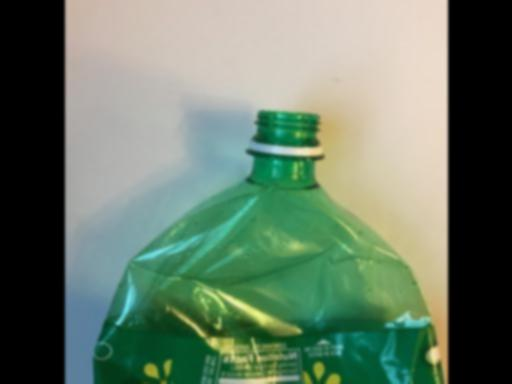PET: (90, 109, 447, 384)
plastic: (90, 109, 447, 384)
soft-drink: (90, 109, 447, 384)
